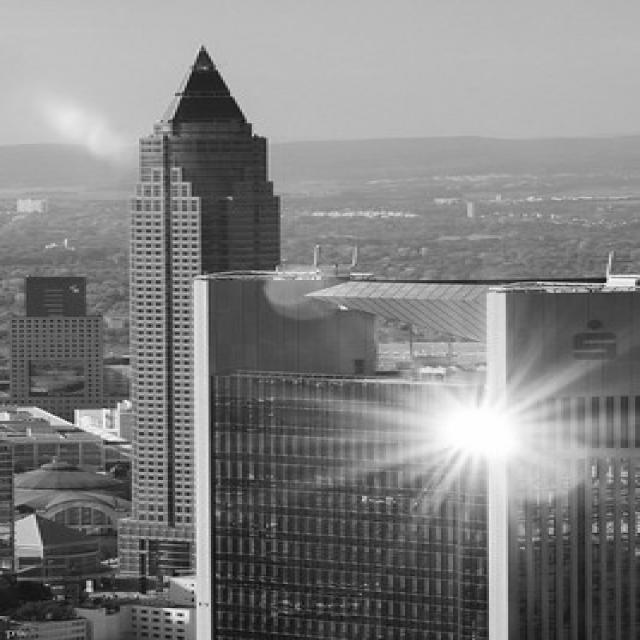Normal_building: (118, 37, 286, 640)
